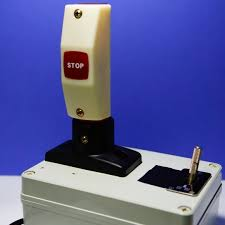bell: (58, 1, 114, 119)
